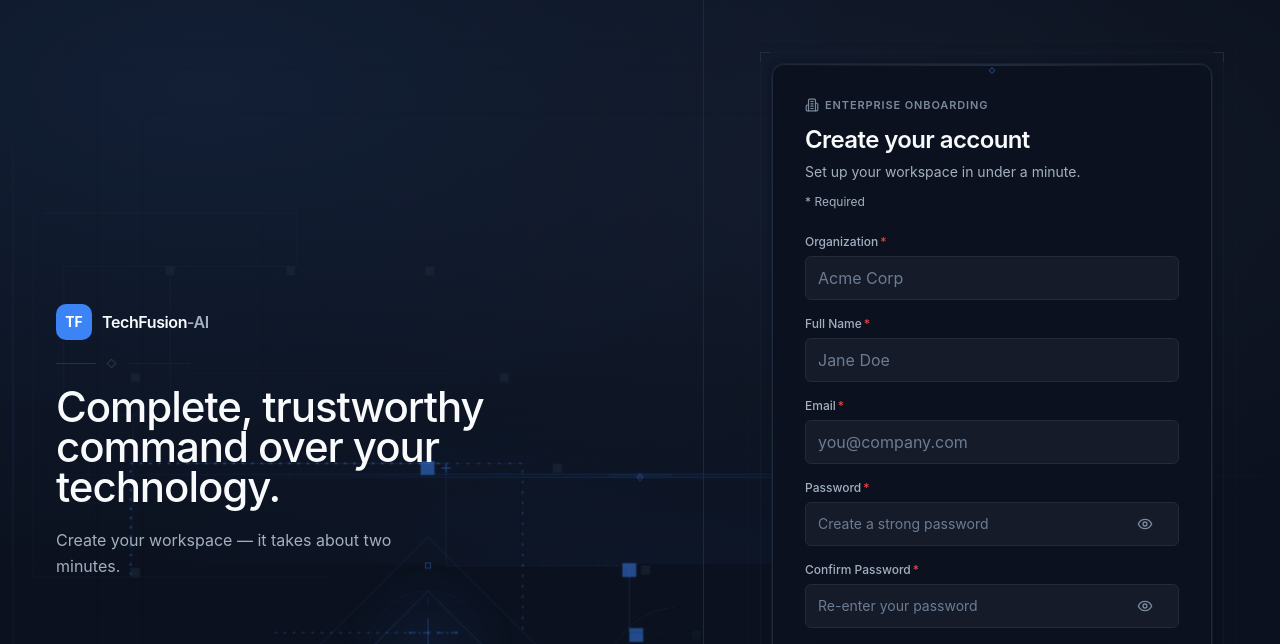
Scenario: SignupExperience › toggles password visibility with the show/hide button
Type "secret" into the password field labelled "Password*" at (992, 524), box x1=805 y1=502 x2=1179 y2=546
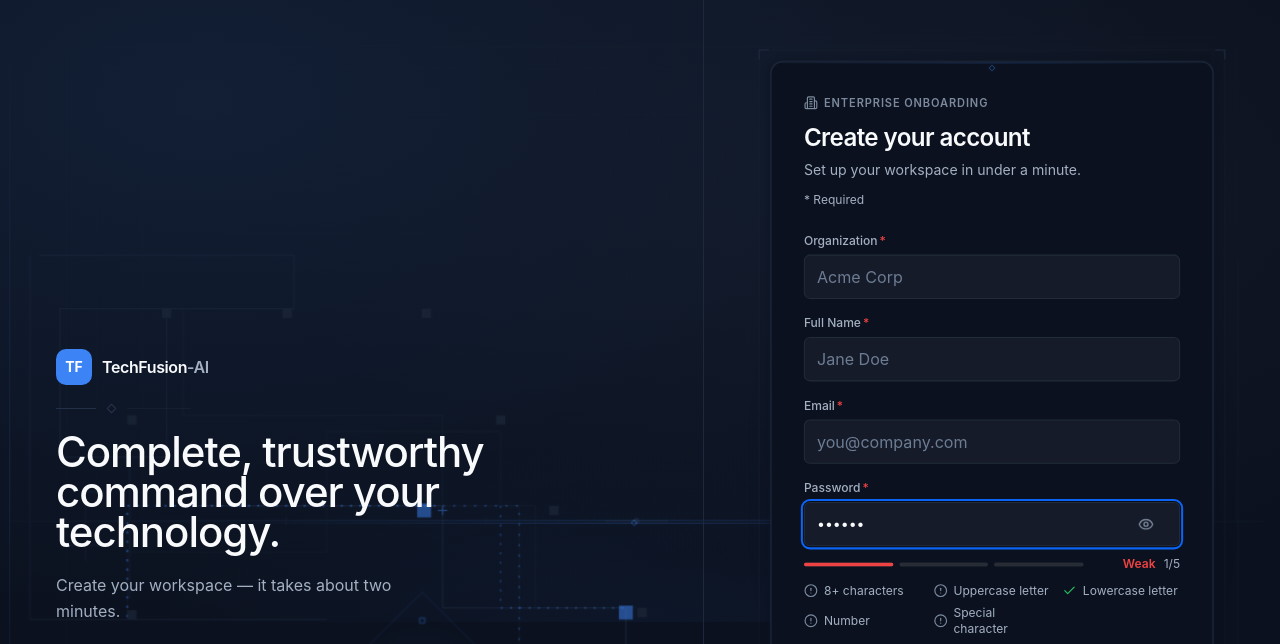
Click the 1st button named "show password" at (1146, 524), box x1=1124 y1=502 x2=1168 y2=546
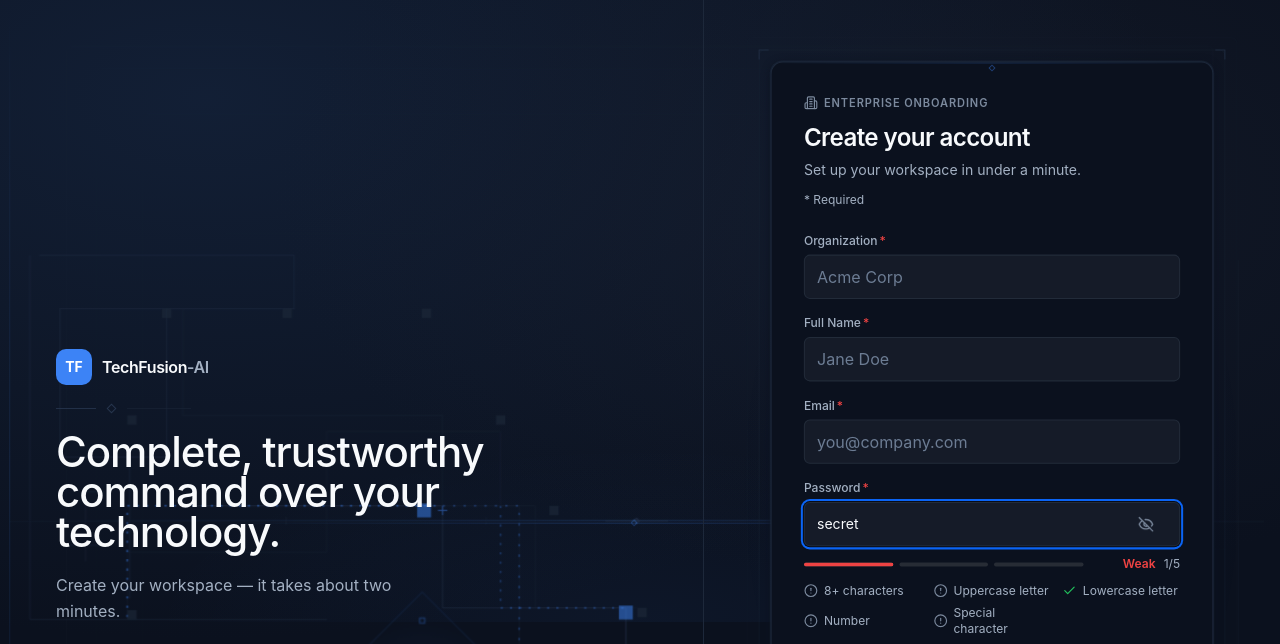
Result: the field labelled "Password*" shows its text at x1=804 y1=502 x2=1180 y2=546
Click the button named "hide password" at (1146, 524), box x1=1124 y1=502 x2=1168 y2=546
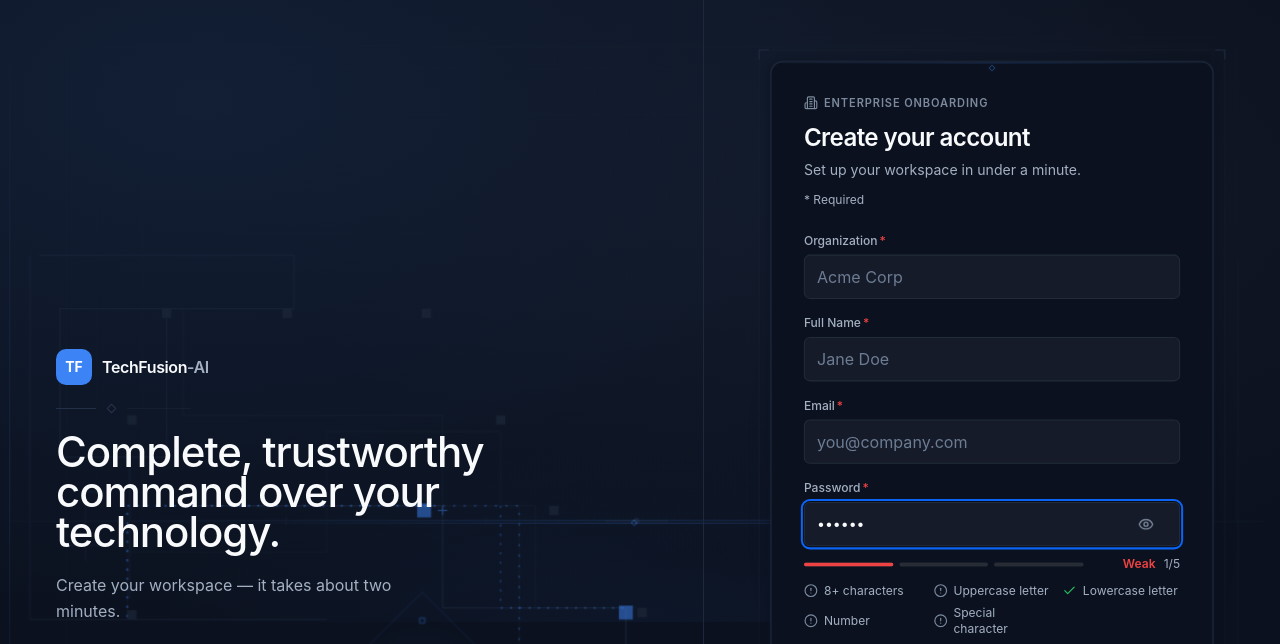
Result: the password field labelled "Password*" hides its text at x1=804 y1=502 x2=1180 y2=546
